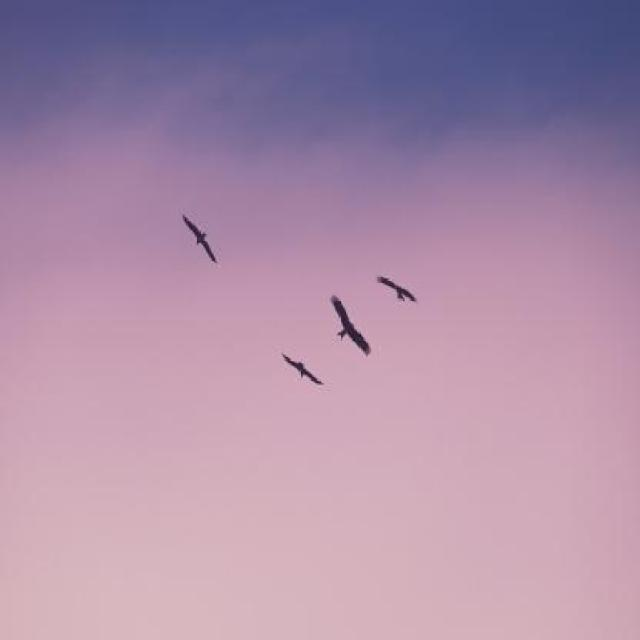bird: (330, 294, 372, 357), (182, 214, 218, 263), (375, 274, 420, 306), (282, 352, 324, 386)
